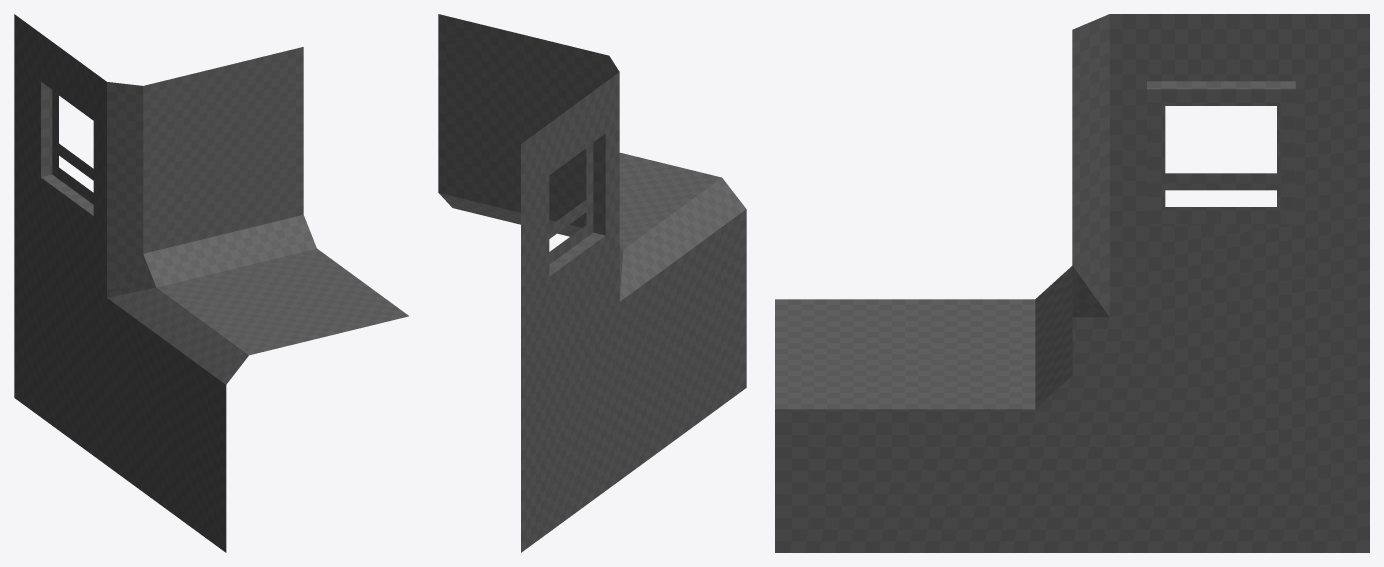
3 views of the same model, side by side, from view 1: azimuth 30°, elevation 25°; view 2: azimuth 150°, elevation 25°; view 3: azimuth 270°, elevation 25° (orthographic). The views are drawn at different scales.
Parts seen in each view (by area): view 1: CubeDownBackRight5V1; view 2: CubeDownBackRight5V1; view 3: CubeDownBackRight5V1.
Boxes of the visible parts, <box> form: CubeDownBackRight5V1: <box>14,14,408,552</box>; CubeDownBackRight5V1: <box>438,14,746,552</box>; CubeDownBackRight5V1: <box>775,14,1369,552</box>.
Size of the model in its own units: 2 by 4 by 4.
1 material, 1 textured.
